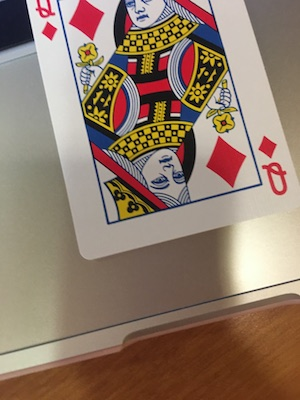QueenOfDiamonds: (17, 1, 298, 266)
